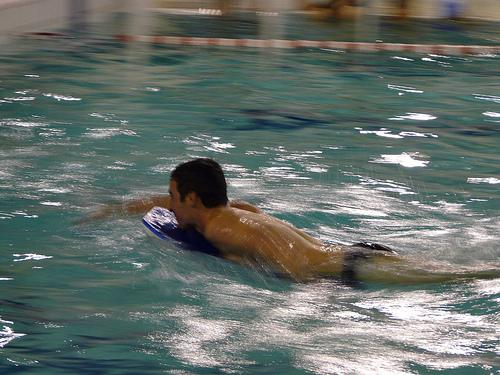human: (139, 158, 500, 290)
